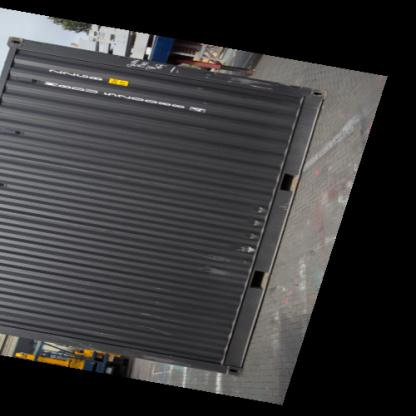Damage: (112, 60, 272, 85), (224, 207, 268, 265)
